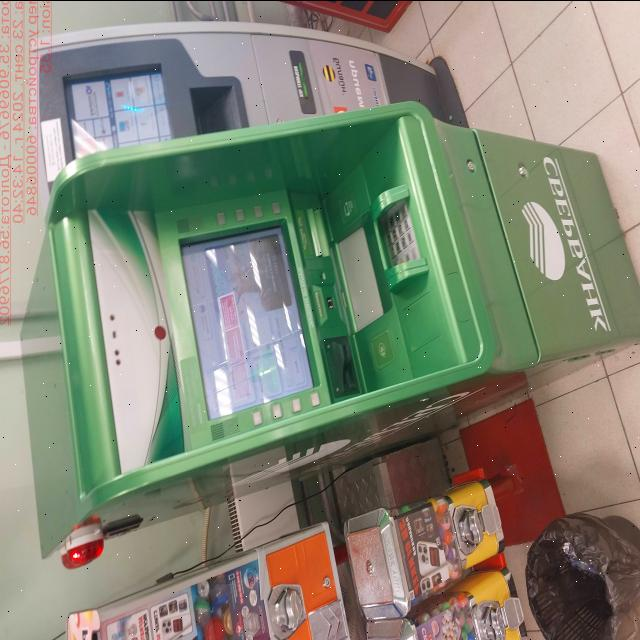bank: (14, 101, 640, 567)
